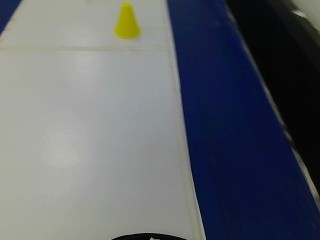cone: (112, 1, 148, 46)
